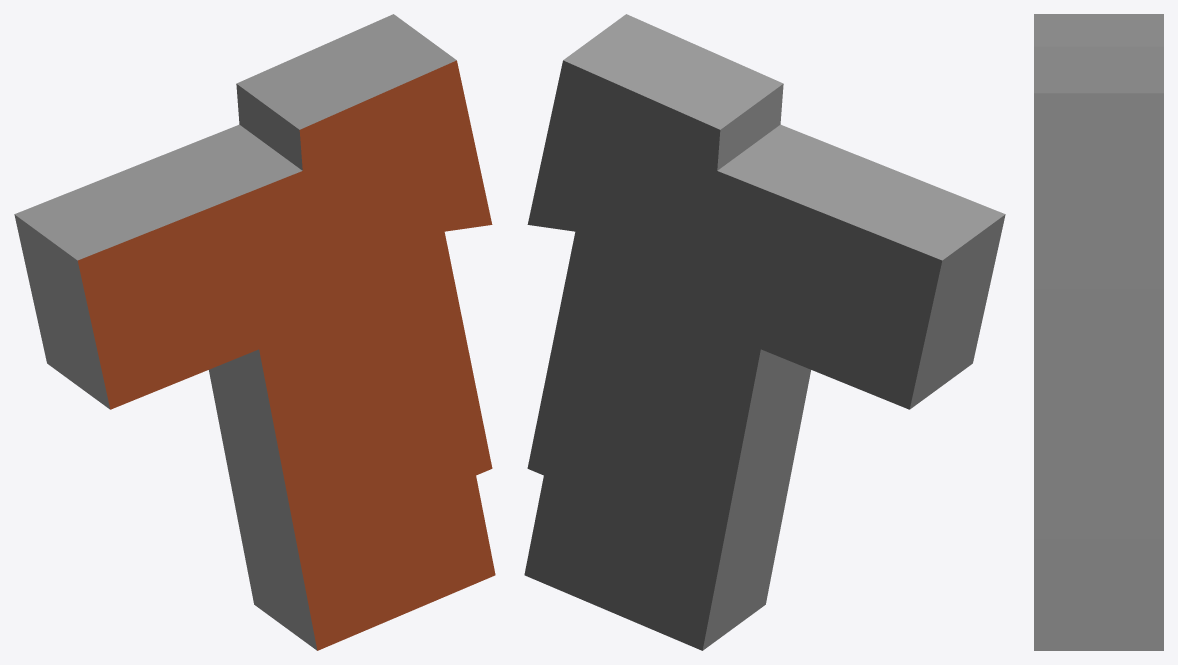
File: construction_1889_assumed_A_Casa_h6m.obj
The picture shows the model from 3 angles, left to right: view 1: azimuth 30°, elevation 25°; view 2: azimuth 150°, elevation 25°; view 3: azimuth 270°, elevation 25°; orthographic projection. The views are drawn at different scales.
Parts seen in each view (by area): view 1: construction_1889_assumed_A_Casa; view 2: construction_1889_assumed_A_Casa; view 3: construction_1889_assumed_A_Casa.
Part boxes in pixels (<box>): construction_1889_assumed_A_Casa: <box>14,14,495,650</box>; construction_1889_assumed_A_Casa: <box>524,14,1005,650</box>; construction_1889_assumed_A_Casa: <box>1034,14,1163,650</box>.
Bounding box in the file's own units: 22.88 × 29.12 × 6.
